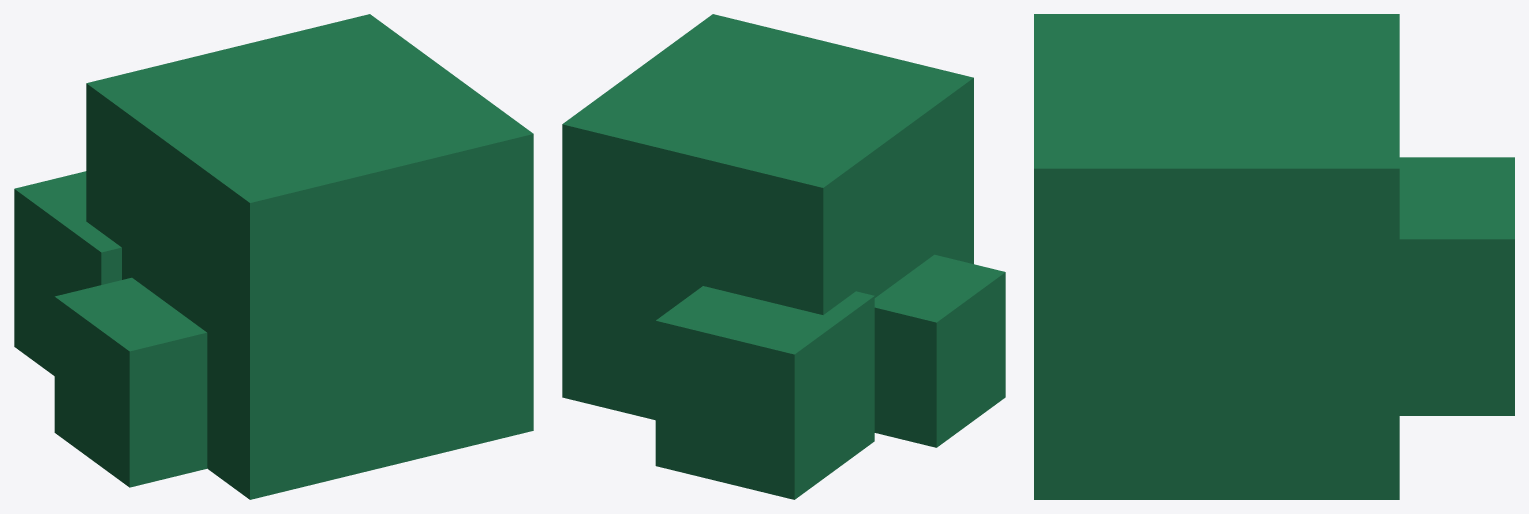
The model's file is bush_2.fbx.
The picture shows the model from 3 angles, left to right: view 1: azimuth 30°, elevation 25°; view 2: azimuth 150°, elevation 25°; view 3: azimuth 270°, elevation 25°; orthographic projection. The views are drawn at different scales.
Parts seen in each view (by area): view 1: Cube.004; view 2: Cube.004; view 3: Cube.004.
Boxes of the visible parts, bbox=[...] form: Cube.004: bbox=[14, 14, 533, 499]; Cube.004: bbox=[562, 14, 1005, 499]; Cube.004: bbox=[1034, 14, 1514, 499].
Size of the model in its own units: 178 by 140 by 184.
